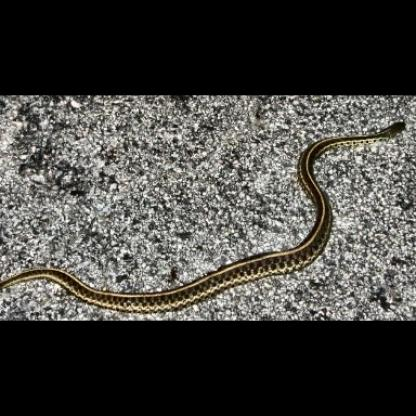Snake: (31, 119, 416, 316)
